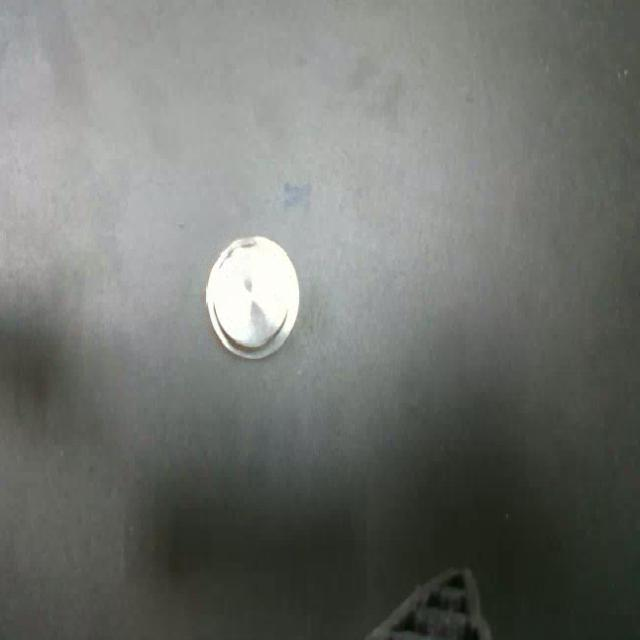sensor: (205, 232, 301, 358)
